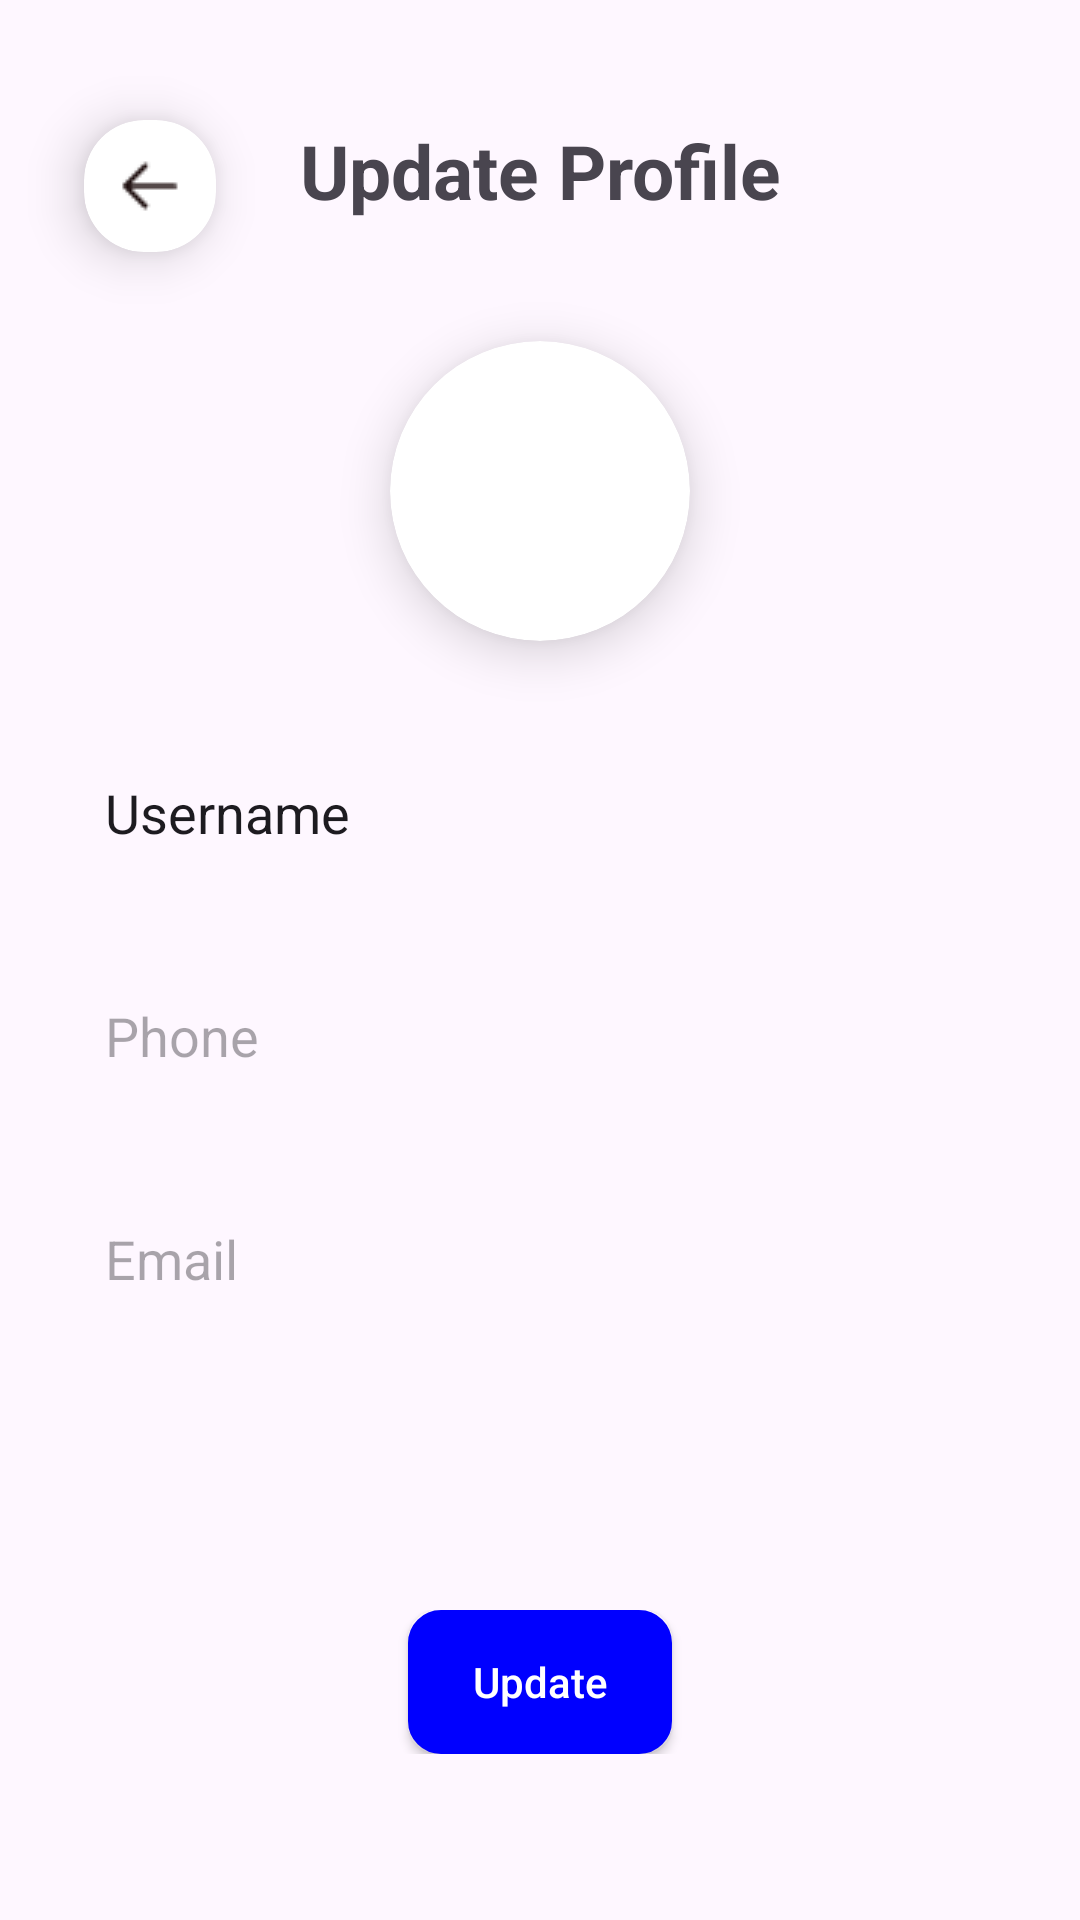

Point at icon controls on the screen. Image size 1080×1920, points as [x,y].
back: [150,186]
